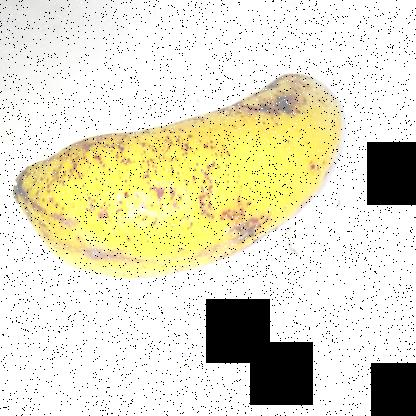rotten: (51, 228, 186, 300), (240, 74, 302, 137), (237, 210, 285, 272)
